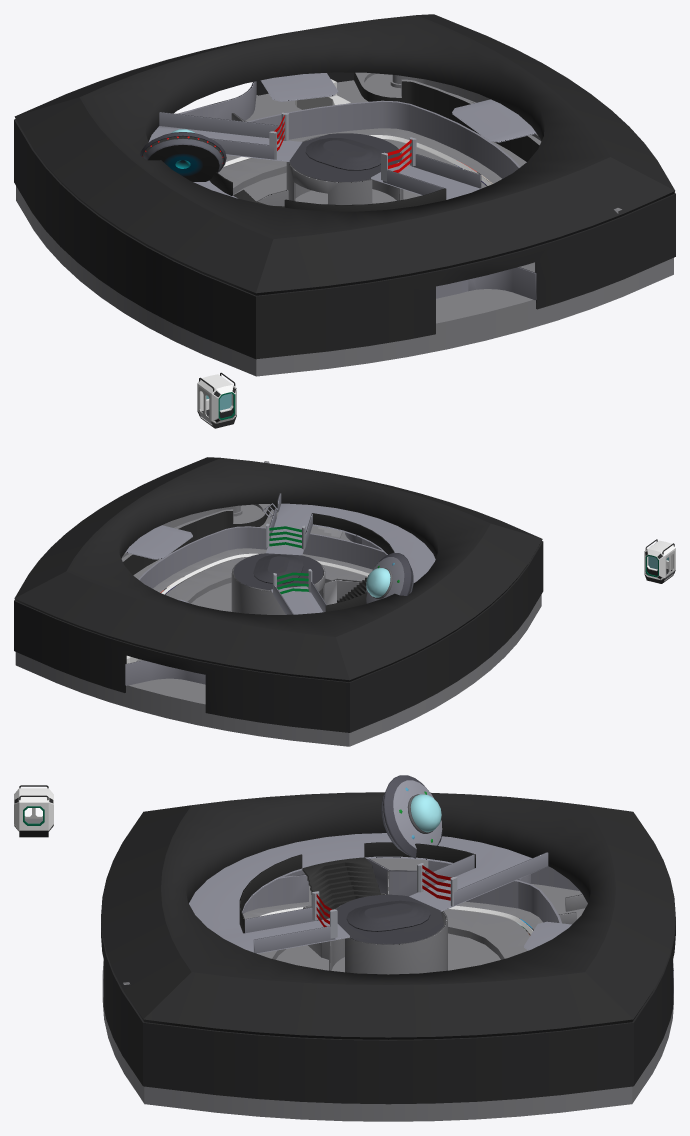
The model's file is layout-squircle-2.gltf.
3 renders of one model, top to bottom at view 1: azimuth 30°, elevation 25°; view 2: azimuth 150°, elevation 25°; view 3: azimuth 270°, elevation 25°, orthographic. The views are drawn at different scales.
Parts seen in each view (by area): view 1: squircle.walls.003, squircle.walls, base.floor.squircle.001, base.floor.squircle.003, squircle.walls.004, squircle.walls.006, base.floor.squircle.012, ufo, base.floor.squircle.018, squircle.walls.010, squircle.walls.009, squircle.walls.005 (+5 smaller); view 2: squircle.walls.003, squircle.walls, base.floor.squircle.001, squircle.walls.004, base.floor.squircle.003, base.floor.squircle.012, base.floor.squircle.018, squircle.walls.010, squircle.walls.005, ufo, squircle.walls.009, train.02 (+7 smaller); view 3: squircle.walls.003, squircle.walls, base.floor.squircle.001, squircle.walls.004, base.floor.squircle.003, squircle.walls.006, base.floor.squircle.018, base.stairs.main, ufo, squircle.walls.005, squircle.walls.009, train.02 (+5 smaller).
Boxes of the visible parts, x1,y1,x2,y2 form: squircle.walls.003: (14, 14, 675, 295); squircle.walls: (14, 72, 675, 359); base.floor.squircle.001: (16, 80, 673, 376); base.floor.squircle.003: (179, 81, 536, 300); squircle.walls.004: (148, 126, 480, 199); squircle.walls.006: (159, 112, 481, 195); base.floor.squircle.012: (354, 72, 541, 161); ufo: (140, 132, 226, 181); base.floor.squircle.018: (286, 135, 403, 204); squircle.walls.010: (452, 99, 536, 142); squircle.walls.009: (305, 138, 382, 170); squircle.walls.005: (209, 172, 446, 211); squircle.walls.003: (14, 457, 542, 682); squircle.walls: (14, 503, 543, 732); base.floor.squircle.001: (15, 510, 541, 746); squircle.walls.004: (233, 503, 435, 614); base.floor.squircle.003: (125, 526, 386, 685); base.floor.squircle.012: (121, 504, 271, 575); base.floor.squircle.018: (231, 561, 325, 614); squircle.walls.010: (125, 525, 192, 559); squircle.walls.005: (312, 513, 394, 611); ufo: (366, 553, 413, 603); squircle.walls.009: (253, 554, 303, 583); train.02: (644, 540, 675, 583); squircle.walls.003: (101, 792, 675, 1039); squircle.walls: (101, 917, 675, 1104); base.floor.squircle.001: (102, 858, 673, 1121); squircle.walls.004: (189, 833, 548, 953); base.floor.squircle.003: (103, 858, 673, 997); squircle.walls.006: (244, 852, 548, 953); base.floor.squircle.018: (329, 905, 447, 974); base.stairs.main: (302, 857, 381, 939); ufo: (381, 775, 442, 858); squircle.walls.005: (239, 842, 475, 933); squircle.walls.009: (346, 900, 430, 931); train.02: (14, 788, 53, 837).
Size of what is drawn, in the model's own units: 44.52 by 10.75 by 44.82.
4 materials, 4 textured.
